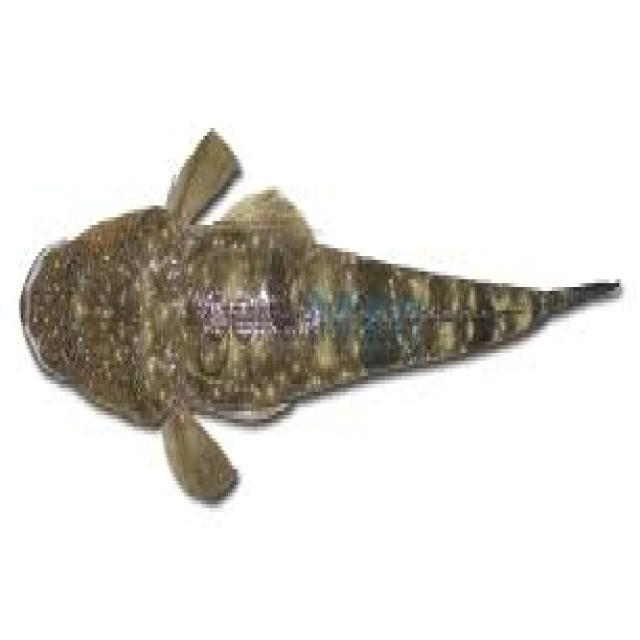Flathead: (15, 117, 625, 512)
